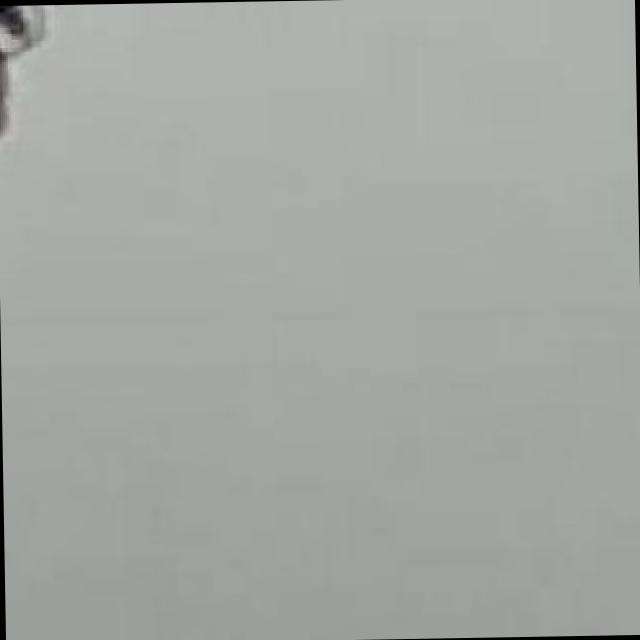Guns: (0, 2, 169, 187)
